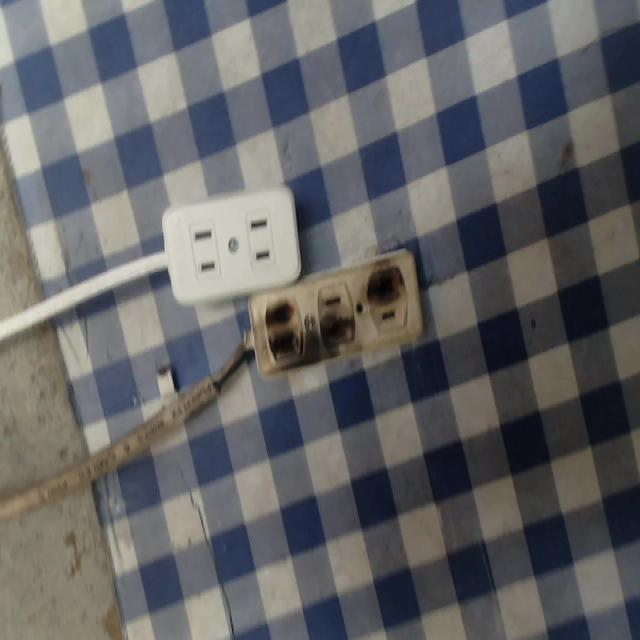-: (261, 292, 305, 367), (366, 261, 411, 308), (323, 313, 362, 360)
